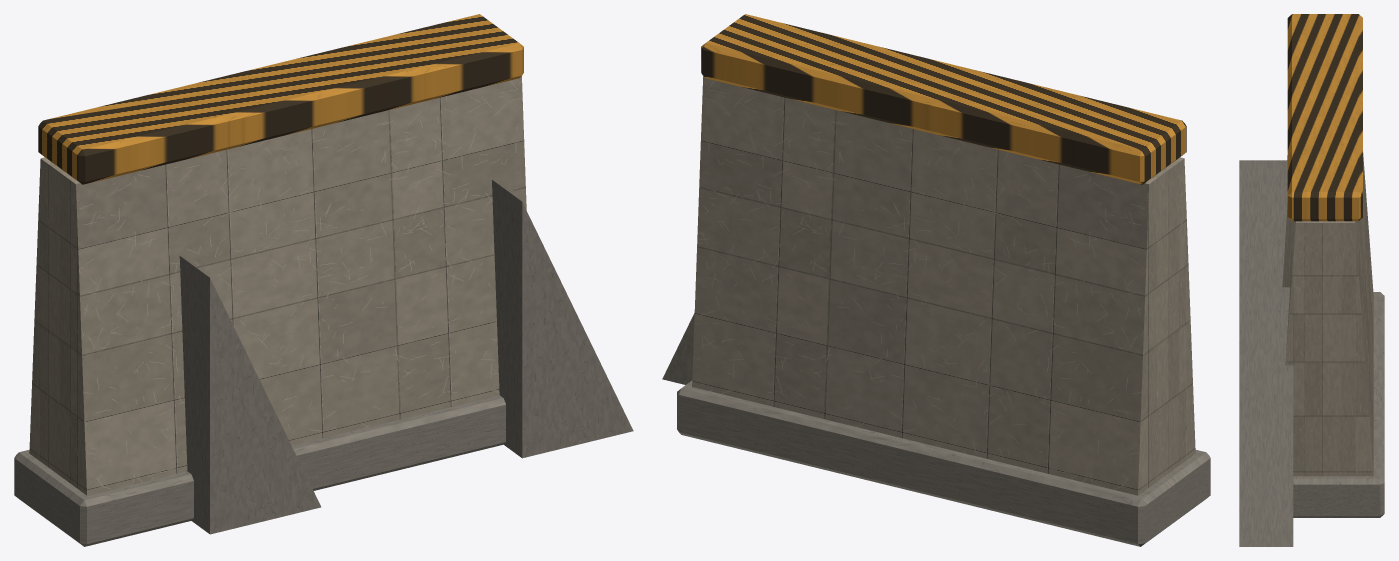
Rendered from blastwall_seg.obj.
3 renders of one model, left to right at view 1: azimuth 30°, elevation 25°; view 2: azimuth 150°, elevation 25°; view 3: azimuth 270°, elevation 25°, orthographic. The views are drawn at different scales.
Visible parts, largest first — view 1: blastwall_seg; view 2: blastwall_seg; view 3: blastwall_seg.
Boxes of the visible parts, <box> form: blastwall_seg: <box>14,14,633,546</box>; blastwall_seg: <box>662,14,1210,546</box>; blastwall_seg: <box>1239,14,1384,546</box>.
Bounding box in the file's own units: 4.8 × 3.3 × 1.35.
1 material, 1 textured.
